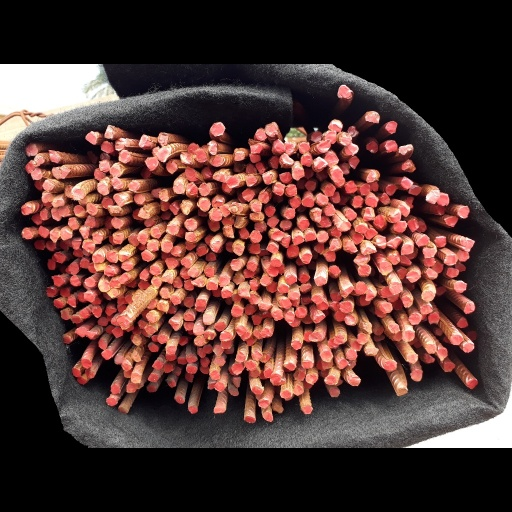dipstick: (235, 325, 252, 341), (323, 151, 339, 167), (74, 325, 92, 339), (425, 188, 440, 204), (422, 242, 437, 258), (264, 121, 279, 137), (185, 181, 199, 198), (343, 239, 358, 254), (231, 270, 246, 285), (192, 148, 207, 163), (144, 156, 159, 171), (232, 147, 248, 161), (96, 179, 110, 195), (269, 372, 286, 385), (93, 168, 110, 181), (337, 84, 351, 99), (401, 158, 416, 172), (406, 270, 421, 284), (64, 261, 79, 275), (66, 217, 81, 231), (248, 138, 261, 154), (236, 282, 249, 298), (385, 236, 402, 248), (208, 154, 225, 166), (365, 110, 379, 124), (233, 214, 247, 228), (211, 122, 225, 136), (109, 175, 123, 189), (116, 315, 130, 329), (378, 262, 393, 275), (339, 285, 354, 298), (313, 156, 328, 169), (286, 243, 299, 258), (165, 159, 178, 174), (180, 199, 192, 215), (353, 254, 370, 265), (399, 142, 413, 155), (443, 253, 457, 266), (393, 220, 407, 233), (379, 301, 393, 314), (389, 281, 403, 294), (338, 133, 352, 146), (344, 180, 357, 194), (354, 281, 367, 295), (242, 188, 255, 202), (226, 175, 240, 188), (139, 134, 152, 148), (137, 206, 151, 219), (119, 150, 132, 164), (109, 164, 123, 177), (105, 250, 119, 263), (73, 204, 86, 218), (101, 195, 114, 209), (462, 237, 474, 252), (398, 202, 410, 217), (373, 214, 385, 229), (327, 119, 342, 131), (272, 139, 284, 154), (248, 292, 263, 304), (230, 305, 245, 317), (228, 202, 243, 214), (209, 238, 221, 253), (52, 251, 67, 263), (51, 206, 63, 221), (185, 165, 196, 181), (107, 204, 123, 215), (58, 205, 74, 216), (400, 175, 413, 188), (454, 280, 467, 293), (427, 312, 440, 325), (408, 312, 421, 325), (402, 329, 415, 342), (410, 369, 423, 382), (323, 183, 336, 196), (291, 168, 304, 181), (258, 350, 271, 363), (249, 230, 262, 243), (184, 218, 197, 231), (101, 140, 114, 153), (112, 194, 125, 207), (120, 357, 133, 370), (20, 226, 33, 239), (85, 202, 98, 215), (385, 120, 397, 134), (384, 140, 398, 152), (421, 289, 435, 301), (416, 234, 430, 246), (407, 218, 419, 232), (364, 228, 378, 240), (324, 130, 336, 144), (383, 359, 397, 371), (356, 332, 370, 344), (337, 219, 351, 231), (323, 202, 335, 216), (270, 230, 284, 242), (266, 279, 278, 293), (233, 242, 245, 256), (208, 209, 222, 221), (180, 150, 192, 164), (198, 182, 210, 196), (156, 149, 168, 163), (140, 249, 154, 261), (83, 132, 97, 144), (127, 232, 139, 246), (124, 289, 136, 303), (49, 149, 61, 163), (362, 207, 373, 222), (316, 217, 331, 228), (111, 312, 122, 327), (257, 301, 273, 311), (463, 301, 475, 314), (431, 261, 444, 273), (434, 235, 446, 248), (385, 183, 397, 196), (400, 243, 413, 255), (345, 143, 358, 155), (358, 264, 371, 276), (328, 265, 341, 277), (317, 140, 330, 152), (294, 306, 307, 318), (279, 219, 292, 231), (289, 196, 302, 208), (273, 183, 285, 196), (315, 170, 328, 182), (266, 216, 279, 228), (266, 265, 279, 277), (259, 326, 272, 338), (244, 359, 257, 371), (230, 258, 242, 271), (244, 174, 257, 186), (218, 274, 230, 287), (212, 343, 224, 356), (194, 298, 206, 311), (183, 296, 195, 309), (172, 181, 185, 193), (169, 202, 181, 215), (161, 240, 173, 253), (165, 257, 178, 269), (128, 179, 140, 192), (112, 232, 125, 244), (103, 264, 115, 277), (82, 241, 95, 253), (37, 226, 50, 238), (58, 166, 70, 179), (33, 154, 45, 167), (458, 205, 469, 219), (444, 216, 458, 227), (450, 334, 464, 345), (437, 347, 448, 361), (331, 168, 342, 182), (338, 301, 352, 312), (310, 209, 321, 223), (319, 350, 333, 361), (284, 140, 295, 154), (191, 277, 205, 288), (120, 260, 134, 271), (51, 276, 65, 287), (79, 225, 90, 239), (362, 246, 377, 256), (437, 194, 449, 206), (457, 249, 469, 261), (456, 316, 468, 328), (462, 341, 474, 353), (380, 286, 392, 298), (366, 141, 378, 153), (344, 208, 356, 220), (345, 348, 357, 360), (328, 238, 340, 250), (323, 249, 335, 261), (305, 373, 317, 385), (292, 384, 304, 396), (280, 297, 292, 309), (298, 219, 310, 231), (283, 207, 295, 219), (255, 128, 267, 140), (266, 242, 278, 254), (231, 363, 243, 375), (245, 334, 257, 346), (250, 200, 262, 212), (198, 199, 210, 211), (166, 224, 178, 236), (159, 287, 171, 299), (104, 304, 116, 316), (79, 307, 91, 319), (98, 280, 110, 292), (71, 237, 83, 249), (84, 215, 96, 227), (49, 230, 61, 242), (26, 144, 38, 156), (446, 266, 459, 277), (401, 295, 412, 308), (405, 353, 418, 364), (364, 196, 377, 207), (352, 195, 363, 208), (348, 156, 359, 169), (351, 233, 364, 244), (371, 324, 384, 335), (300, 155, 313, 166), (315, 193, 328, 204), (281, 153, 294, 164), (261, 172, 272, 185), (258, 191, 269, 204), (259, 275, 272, 286), (248, 367, 261, 378), (224, 224, 235, 237), (219, 204, 230, 217), (200, 166, 211, 179), (158, 189, 169, 202), (160, 250, 173, 261), (161, 271, 172, 284), (156, 301, 169, 312), (145, 312, 158, 323), (145, 298, 158, 309), (137, 232, 148, 245), (110, 217, 123, 228), (132, 334, 143, 347), (126, 380, 137, 393), (69, 275, 82, 286), (59, 229, 72, 240), (73, 189, 86, 200), (42, 179, 55, 190), (404, 195, 414, 209), (386, 255, 400, 265), (365, 287, 375, 301), (212, 172, 226, 182), (158, 132, 168, 146), (364, 347, 379, 356), (19, 206, 34, 215), (454, 261, 466, 272), (426, 267, 438, 278), (416, 220, 427, 232), (406, 247, 417, 259), (387, 322, 399, 333), (339, 162, 350, 174), (333, 177, 345, 188), (359, 295, 371, 306), (344, 314, 356, 325), (304, 180, 316, 191), (298, 142, 310, 153), (314, 275, 326, 286), (316, 360, 328, 371), (301, 313, 313, 324), (301, 253, 313, 264), (304, 231, 316, 242), (286, 184, 297, 196), (279, 171, 291, 182), (254, 162, 265, 174), (272, 308, 283, 320), (230, 376, 241, 388), (243, 303, 255, 314), (248, 243, 260, 254), (221, 182, 233, 193), (208, 220, 220, 231), (220, 330, 232, 341), (193, 334, 204, 346), (187, 266, 199, 277), (149, 265, 161, 276), (151, 359, 163, 370), (150, 227, 161, 239), (133, 208, 145, 219), (101, 349, 113, 360), (66, 296, 77, 308), (39, 209, 51, 220), (30, 169, 42, 180), (409, 185, 422, 195), (420, 304, 433, 314), (391, 209, 401, 222), (375, 236, 385, 249), (366, 169, 376, 182), (308, 332, 321, 342), (299, 282, 312, 292), (250, 351, 263, 361), (257, 398, 270, 408), (221, 215, 234, 225), (203, 330, 216, 340), (196, 246, 209, 256), (184, 231, 197, 241), (168, 295, 181, 305), (144, 217, 157, 227), (115, 137, 125, 150), (104, 125, 114, 138), (117, 252, 130, 262), (118, 273, 131, 283), (111, 327, 124, 337), (131, 371, 141, 384), (84, 277, 97, 287), (92, 253, 105, 263), (323, 375, 337, 384), (106, 288, 120, 297), (53, 299, 67, 308), (51, 166, 60, 180), (425, 343, 436, 354), (391, 330, 402, 341), (392, 299, 403, 310), (400, 255, 411, 266), (368, 181, 379, 192), (359, 184, 370, 195), (334, 310, 345, 321), (328, 300, 339, 311), (330, 227, 341, 238), (262, 410, 273, 421), (238, 227, 249, 238), (203, 314, 214, 325), (161, 209, 172, 220), (172, 277, 183, 288), (134, 193, 145, 204), (81, 357, 92, 368), (91, 307, 102, 318), (60, 309, 71, 320), (45, 286, 56, 297), (94, 261, 105, 272), (87, 262, 98, 273), (92, 233, 103, 244), (46, 239, 57, 250), (443, 362, 455, 372), (435, 286, 447, 296), (380, 192, 390, 204), (348, 125, 358, 137), (302, 197, 314, 207), (316, 232, 328, 242), (311, 294, 323, 304), (316, 301, 328, 311), (313, 314, 325, 324), (321, 360, 333, 370), (301, 359, 313, 369), (293, 371, 305, 381), (298, 273, 310, 283), (285, 275, 297, 285), (249, 153, 261, 163), (265, 205, 275, 217), (280, 235, 290, 247), (234, 352, 246, 362), (243, 268, 255, 278), (254, 221, 266, 231), (187, 143, 199, 153), (200, 356, 210, 368), (184, 279, 194, 291), (160, 200, 170, 212), (170, 246, 182, 256), (168, 320, 180, 330), (165, 344, 177, 354), (157, 334, 169, 344), (147, 342, 159, 352), (145, 325, 157, 335), (151, 277, 161, 289), (139, 269, 149, 281), (86, 329, 98, 339), (97, 316, 109, 326), (34, 178, 44, 190), (423, 257, 436, 266), (329, 291, 342, 300), (287, 318, 300, 327), (283, 362, 296, 371), (288, 290, 301, 299), (237, 191, 246, 204), (220, 289, 233, 298), (213, 357, 226, 366), (71, 368, 84, 377), (250, 212, 264, 220), (100, 153, 114, 161), (70, 315, 84, 323), (91, 297, 105, 305), (396, 268, 407, 278), (397, 386, 408, 396), (338, 358, 349, 368), (327, 338, 338, 348), (333, 334, 344, 344), (303, 168, 313, 179), (252, 385, 263, 395), (251, 315, 262, 325), (246, 261, 257, 271), (203, 267, 214, 277), (215, 381, 225, 392), (193, 325, 204, 335), (181, 258, 192, 268), (151, 188, 162, 198), (178, 336, 189, 346), (147, 241, 158, 251), (131, 351, 141, 362), (113, 354, 123, 365), (97, 339, 107, 350), (85, 368, 95, 379), (62, 333, 72, 344), (77, 291, 87, 302), (80, 258, 91, 268), (72, 247, 83, 257), (423, 354, 435, 363), (355, 224, 367, 233), (344, 360, 356, 369), (310, 132, 322, 141), (303, 330, 312, 342), (285, 311, 294, 323), (300, 296, 312, 305), (292, 235, 304, 244), (280, 390, 292, 399), (220, 340, 232, 349), (214, 322, 226, 331), (184, 241, 196, 250), (147, 373, 159, 382), (138, 281, 150, 290), (109, 278, 121, 287), (386, 293, 399, 301), (465, 378, 475, 388), (362, 322, 372, 332), (350, 376, 360, 386), (314, 243, 324, 253), (302, 404, 312, 414), (291, 340, 301, 350), (290, 297, 300, 307), (295, 179, 305, 189), (273, 403, 283, 413), (204, 235, 214, 245), (210, 370, 220, 380), (202, 344, 212, 354), (176, 227, 186, 237), (141, 309, 151, 319), (110, 384, 120, 394), (83, 292, 93, 302), (32, 213, 42, 223), (331, 191, 340, 202), (329, 388, 340, 397), (228, 387, 239, 396), (208, 145, 217, 156), (223, 345, 234, 354), (199, 365, 210, 374), (196, 347, 205, 358), (187, 405, 198, 414), (186, 365, 197, 374), (152, 146, 161, 157), (166, 378, 177, 387), (116, 304, 125, 315), (137, 319, 148, 328), (122, 369, 133, 378), (47, 258, 56, 269), (78, 196, 89, 205), (437, 204, 445, 216), (373, 333, 385, 341), (270, 258, 282, 266), (244, 415, 256, 423), (225, 241, 233, 253), (186, 355, 198, 363), (125, 280, 137, 288), (105, 397, 117, 405), (256, 250, 269, 257), (407, 335, 417, 344), (295, 256, 305, 265), (264, 368, 273, 378), (184, 373, 194, 382), (184, 321, 194, 330), (163, 363, 173, 372), (173, 365, 182, 375), (117, 295, 127, 304), (118, 405, 128, 414), (60, 287, 70, 296), (205, 253, 216, 261), (174, 395, 185, 403), (183, 313, 194, 321), (146, 385, 157, 393), (260, 311, 272, 318), (232, 293, 241, 302), (321, 369, 329, 379), (166, 305, 176, 313), (137, 241, 147, 249), (467, 330, 474, 341), (197, 209, 208, 216), (434, 327, 443, 335), (213, 407, 225, 413), (60, 241, 68, 250), (177, 357, 187, 364), (207, 381, 215, 389), (133, 327, 141, 335), (413, 341, 422, 348), (164, 355, 176, 360), (105, 326, 113, 333), (207, 140, 217, 145), (444, 336, 451, 343), (151, 335, 158, 342), (188, 329, 194, 335)
